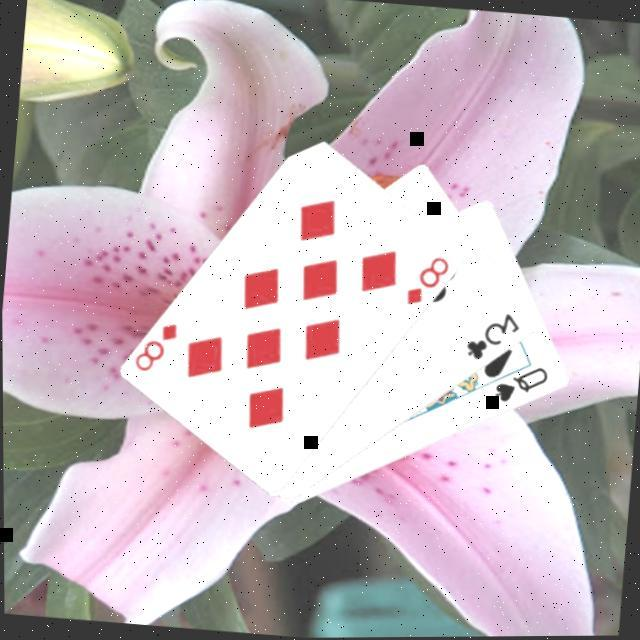3C: (459, 304, 524, 365)
8D: (128, 314, 180, 375), (401, 248, 452, 310)
QS: (488, 358, 550, 408)
